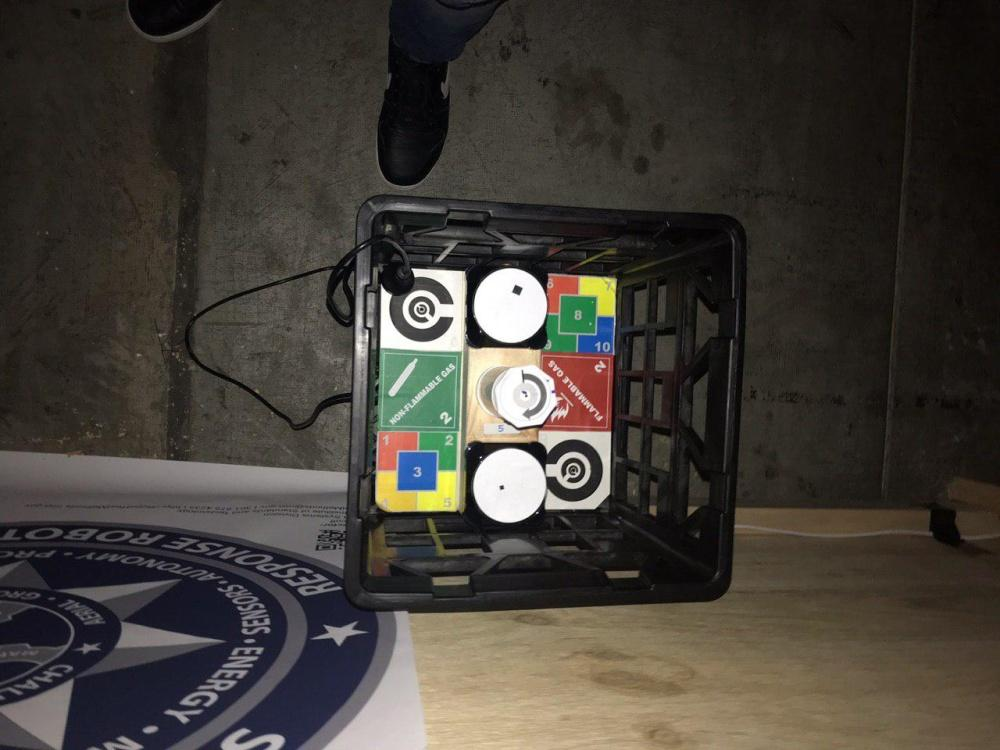flammable: (542, 352, 614, 430)
non-flammable-gas: (382, 350, 459, 428)
